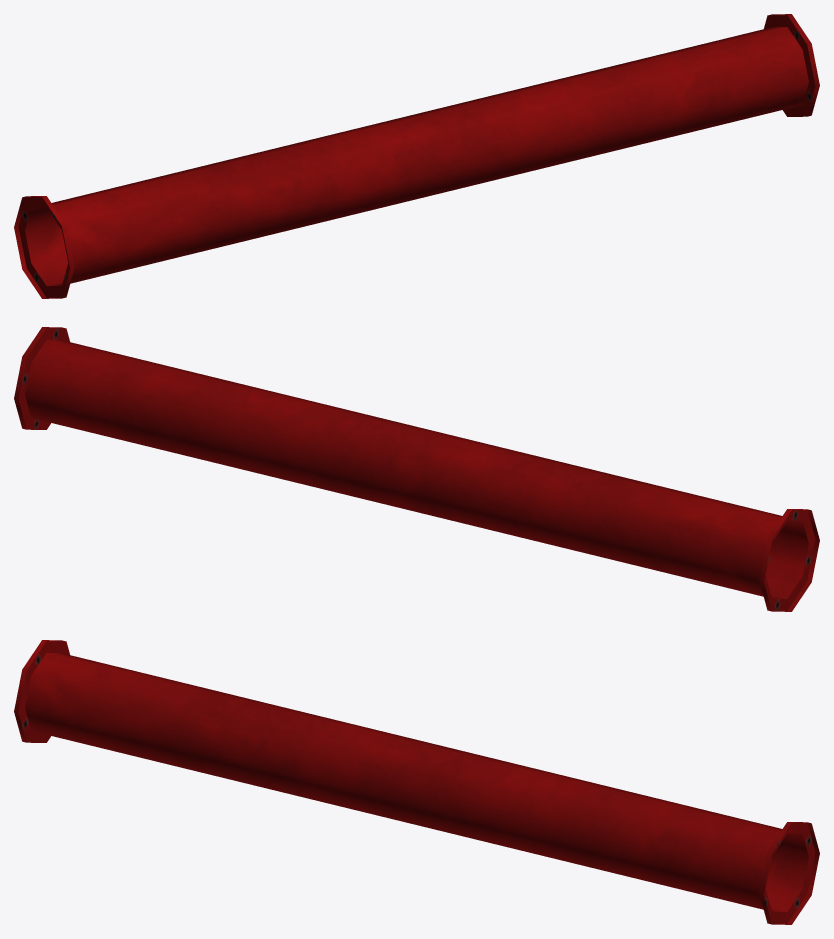
The model's file is PipeBig_1m.FBX.
3 views of the same model, one above another, from view 1: azimuth 30°, elevation 25°; view 2: azimuth 150°, elevation 25°; view 3: azimuth 330°, elevation 25° (orthographic).
Parts seen in each view (by area): view 1: PipeBig_1m; view 2: PipeBig_1m; view 3: PipeBig_1m.
Boxes of the visible parts, x1=… form: PipeBig_1m: x1=14, y1=14, x2=819, y2=298; PipeBig_1m: x1=14, y1=327, x2=819, y2=611; PipeBig_1m: x1=14, y1=640, x2=819, y2=924.
Size of the model in its own units: 39.37 by 5.12 by 5.12.
